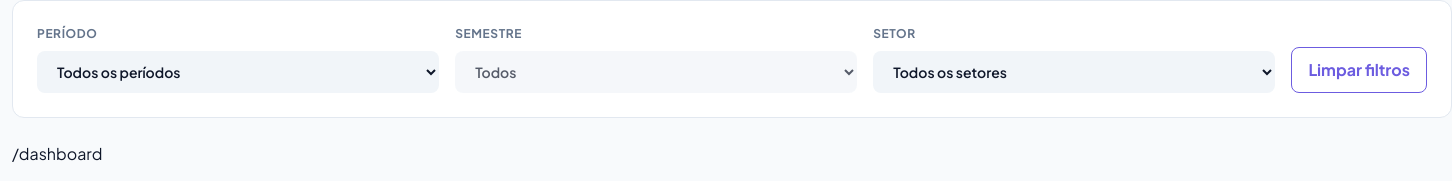
seleciona ano e semestre e remove o semestre ao limpar o ano
Select "2024" in the dropdown labelled "Período" at (238, 72), box [37,51,439,93]
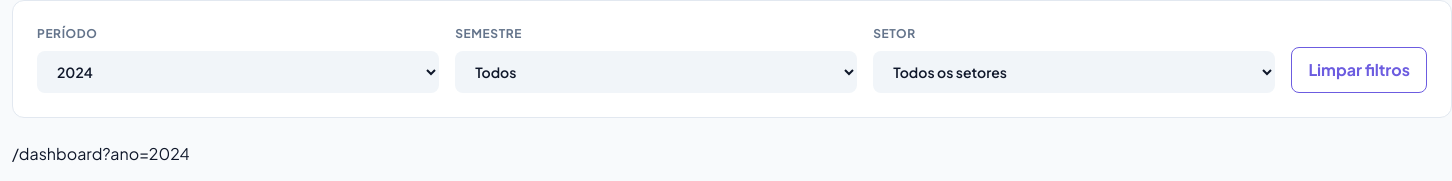
Select "2º semestre" in the dropdown labelled "Semestre" at (656, 72), box [455,51,857,93]
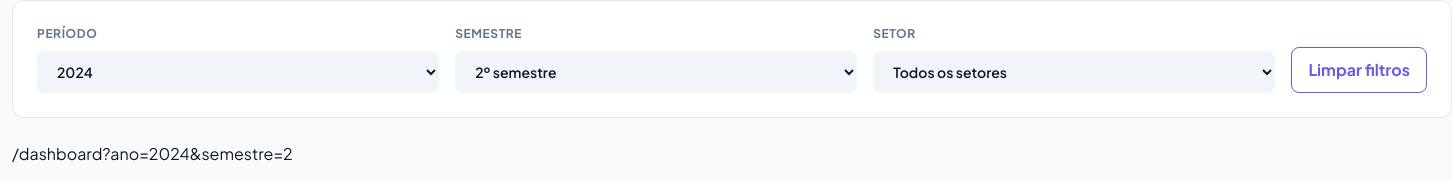
Check: the text named "URL" reads "/dashboard?ano=2024&semestre=2", box [12,143,293,164]
Select "Todos os períodos" in the dropdown labelled "Período" at (238, 72), box [37,51,439,93]
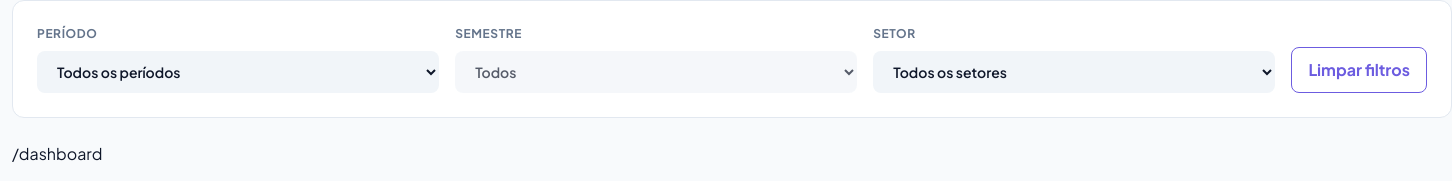
Check: the text named "URL" reads "/dashboard", box [12,143,102,164]
Check: the dropdown labelled "Semestre" is disabled, box [455,51,857,93]
